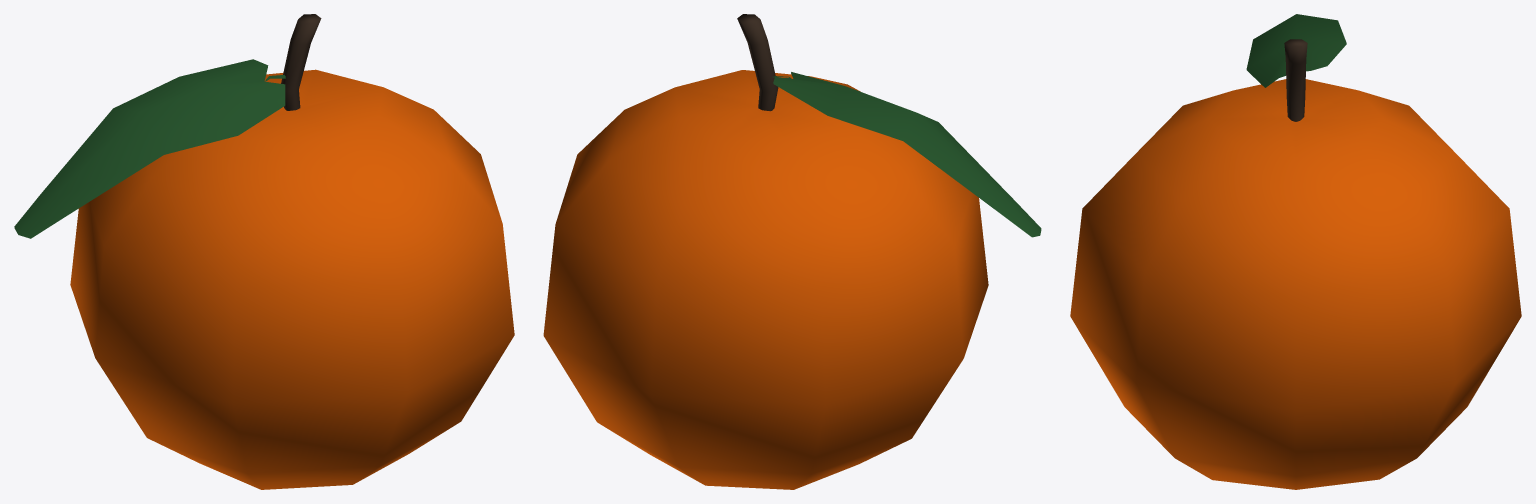
File: orange.fbx
3 views of the same model, side by side, from view 1: azimuth 30°, elevation 25°; view 2: azimuth 150°, elevation 25°; view 3: azimuth 270°, elevation 25° (orthographic). The views are drawn at different scales.
Parts seen in each view (by area): view 1: Food_Orange; view 2: Food_Orange; view 3: Food_Orange.
Boxes of the visible parts, x1,y1,x2,y2 form: Food_Orange: (14,14,514,489); Food_Orange: (543,14,1041,489); Food_Orange: (1070,14,1521,489).
Size of the model in its own units: 41.12 by 36.46 by 34.77.
Materials: 1 (1 with a texture image).
